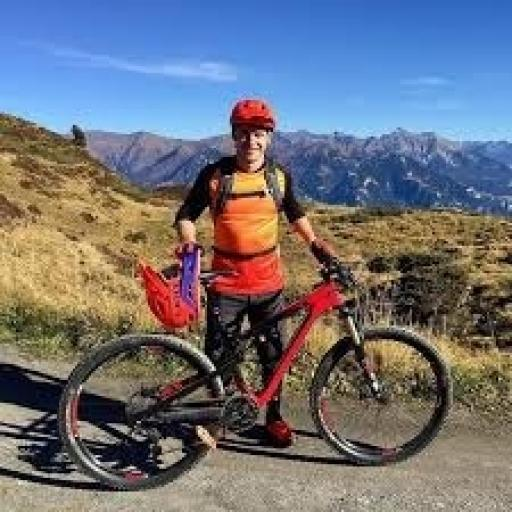cycling: (168, 95, 358, 453)
